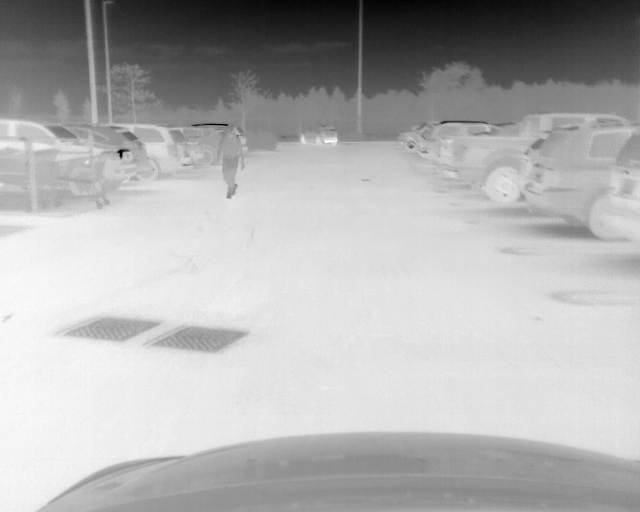car: (451, 111, 630, 206), (522, 123, 636, 241), (1, 118, 132, 203), (62, 123, 149, 195), (435, 121, 515, 183), (121, 123, 195, 182), (607, 125, 640, 246), (177, 124, 227, 168), (396, 121, 438, 152), (298, 123, 340, 147)
people: (213, 123, 246, 199)
